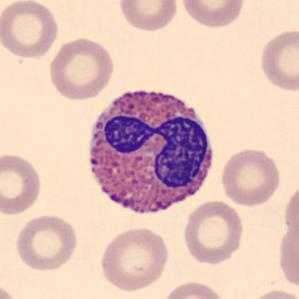Eosinophil: (78, 75, 220, 227)
RBC: (97, 225, 171, 292), (46, 36, 116, 102), (181, 198, 246, 265), (12, 212, 80, 272), (218, 146, 282, 207), (0, 0, 61, 60), (0, 150, 44, 218), (257, 26, 298, 94), (116, 0, 180, 33), (178, 0, 247, 29), (276, 210, 298, 292), (160, 279, 228, 299), (282, 179, 299, 246), (246, 287, 299, 298), (0, 281, 21, 299)
